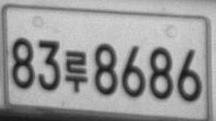3: (37, 39, 61, 90)
6: (176, 49, 203, 102), (121, 45, 146, 98)
8: (148, 46, 173, 100), (93, 42, 118, 95), (11, 36, 35, 89)
루: (64, 50, 88, 92)
